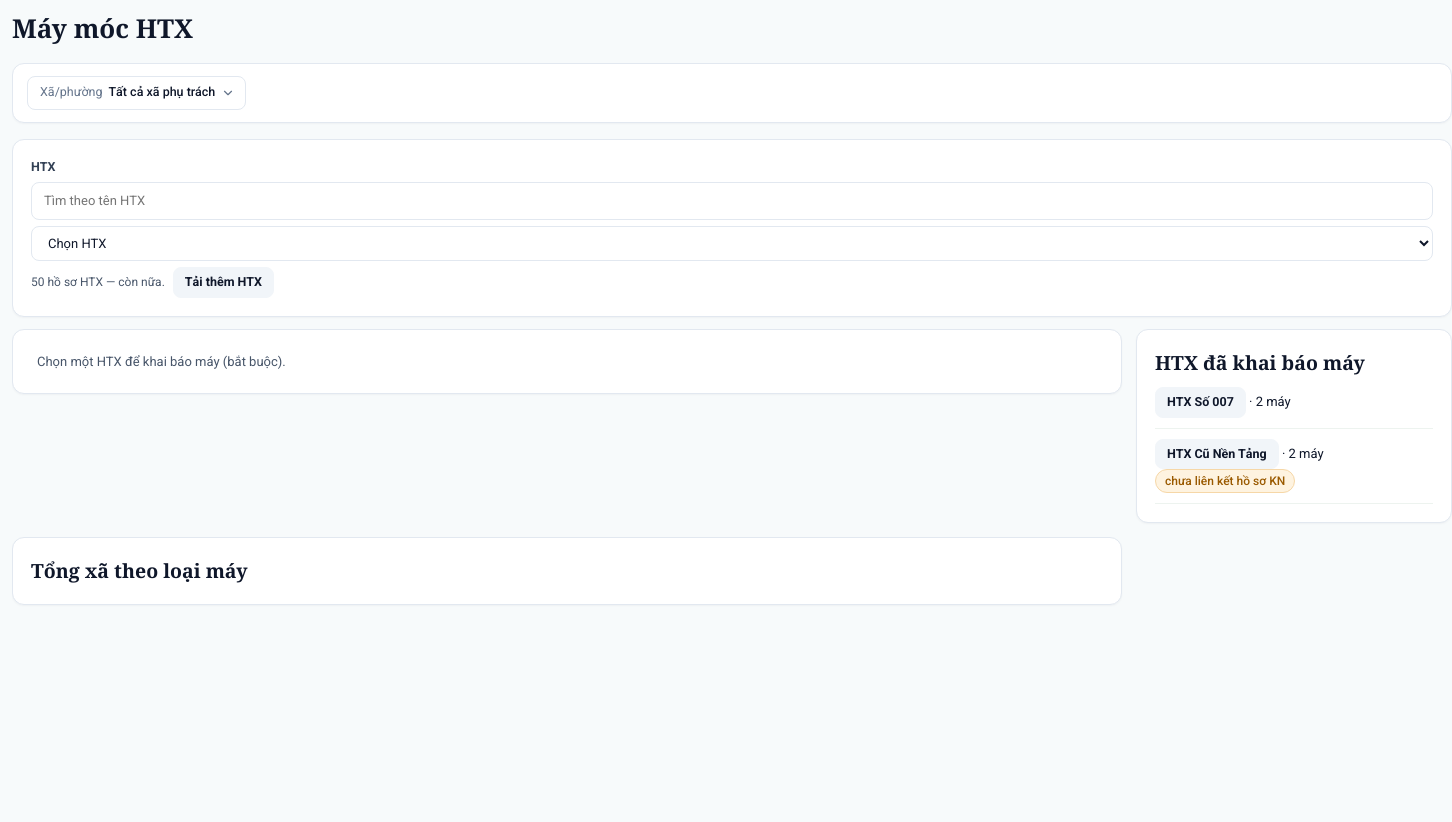
Máy móc HTX — bộ chọn theo hồ sơ KN (#162) › HTX đã khai báo máy (tham chiếu HTX nền tảng): liên kết → tên hồ sơ KN; chưa liên kết → ghi rõ và vẫn xem được
The image size is (1452, 822).
Expected: the button "HTX Số 007" is shown, [1155,387,1246,418]
Expected: the text "chưa liên kết hồ sơ KN" is shown, [1155,469,1295,493]
Click the button "HTX Cũ Nền Tảng" at (1217, 454), box [1155,438,1279,469]
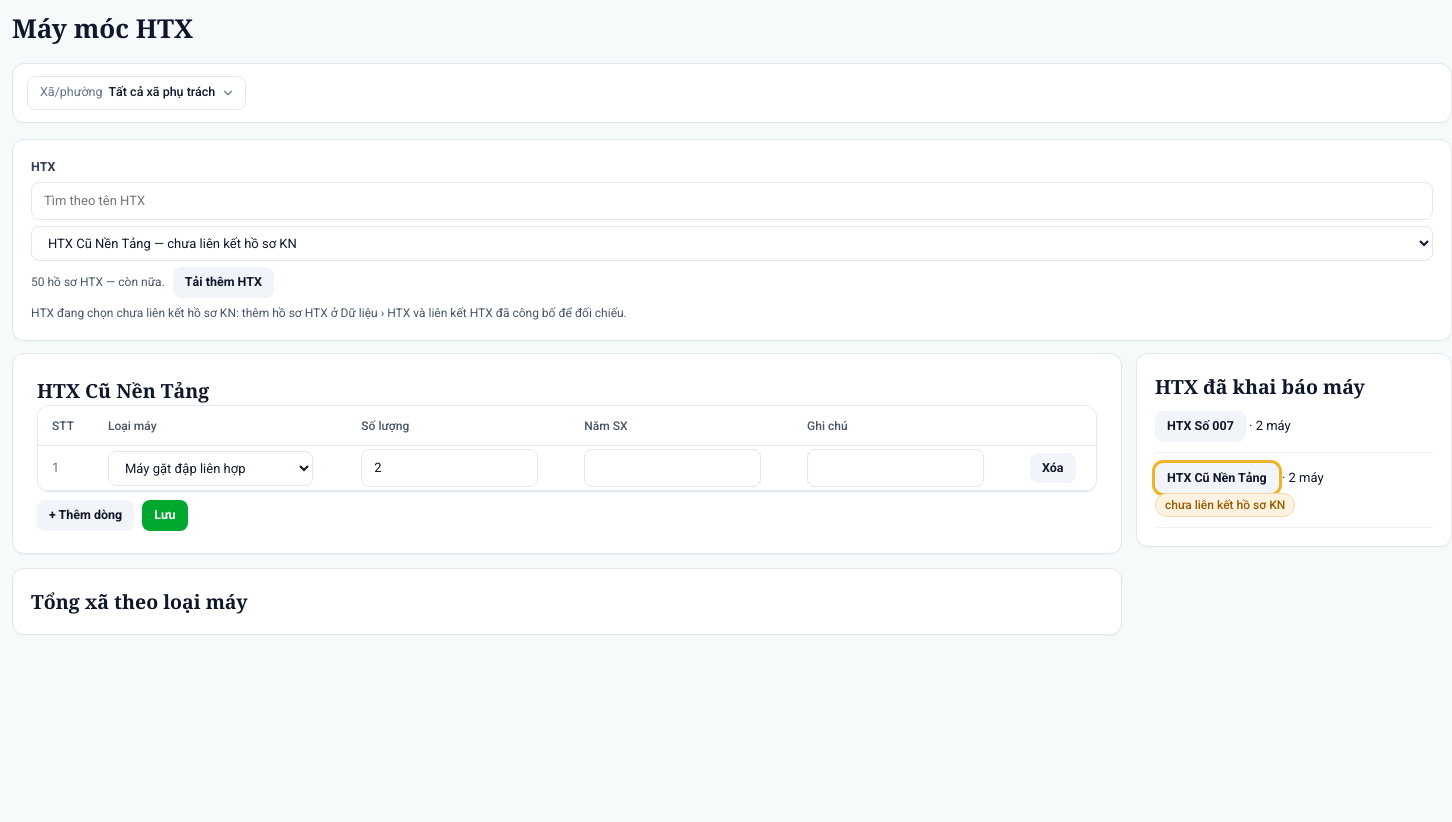
Expected: the table named "Khai báo máy" is shown, [38,406,1096,491]
Expected: the dropdown labelled "HTX" shows "HTX Cũ Nền Tảng — chưa liên kết hồ sơ KN", [31,226,1433,261]
Expected: the text "chưa liên kết hồ sơ KN" is shown, [31,306,627,320]
